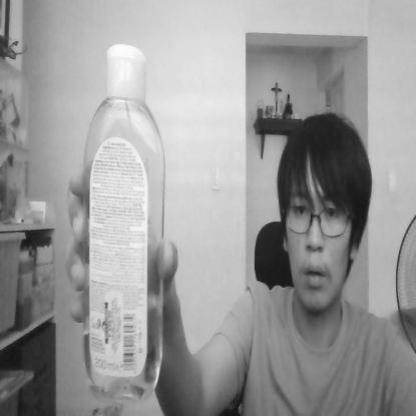Plastic Bottle: (76, 36, 167, 409)
